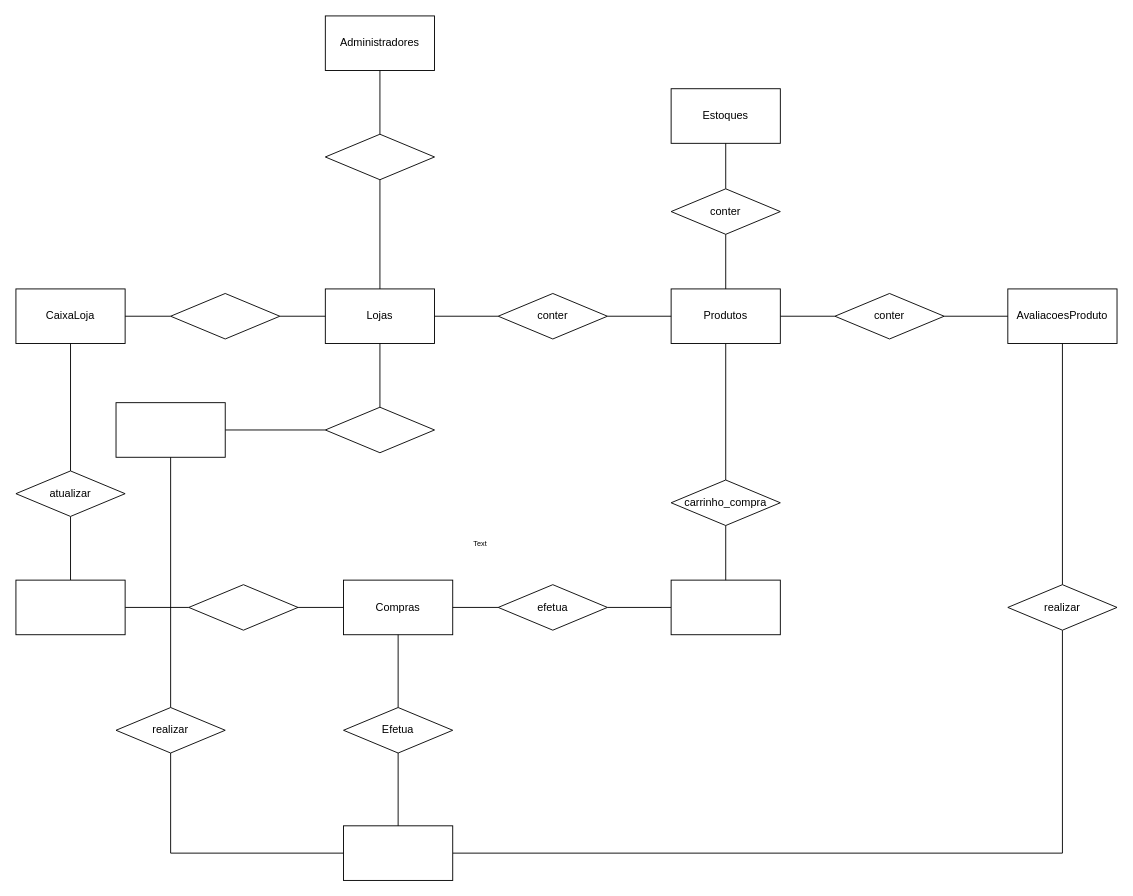
This 1133x896 diagram has some shape labels left out. Here are the shapes that lost their labels. From the top down, the centre of each, then its label:
At [379,156]: "gerenciar".
At [225,316]: "pertencer".
At [170,429]: "AvaliacoesLoja".
At [379,429]: "Contém".
At [70,607]: "Pagamentos".
At [243,607]: "efetuar".
At [725,607]: "Carrinhos".
At [398,852]: "Clientes".
